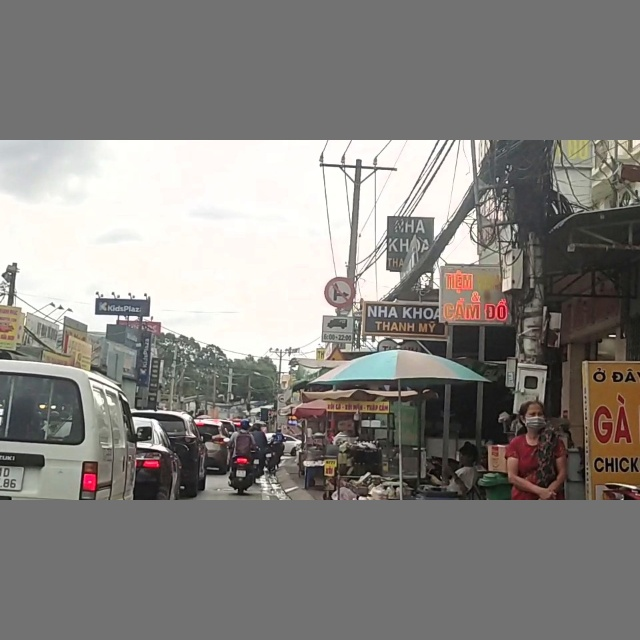P.139: (324, 276, 355, 306)
S.505a*Xe tai: (322, 315, 355, 343)
